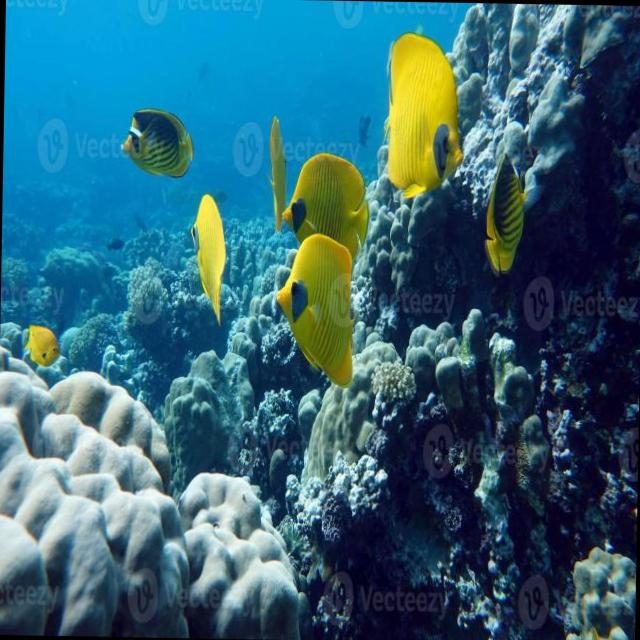ButterflyFish: (266, 242, 378, 412), (370, 24, 474, 200), (278, 138, 379, 271), (114, 75, 207, 185), (480, 148, 532, 294), (182, 197, 240, 327), (270, 104, 290, 245), (21, 316, 65, 366)
